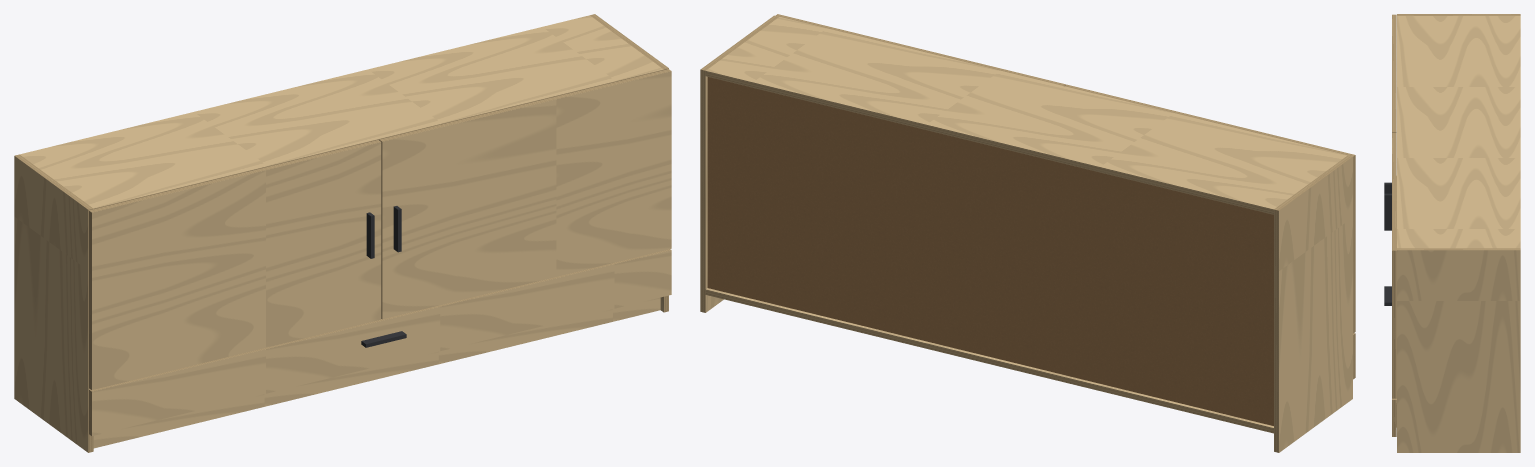
The model's file is SAB-SDB-long.glb.
The picture shows the model from 3 angles, left to right: view 1: azimuth 30°, elevation 25°; view 2: azimuth 150°, elevation 25°; view 3: azimuth 270°, elevation 25°; orthographic projection. The views are drawn at different scales.
Parts seen in each view (by area): view 1: door-r:sheet:eyJtIjoicGx5Iiwic2lkZSI6ImZhY2UiLCJzZWVkIjoxLCJ, door-l:sheet:eyJtIjoicGx5Iiwic2lkZSI6ImZhY2UiLCJzZWVkIjoyLCJ, top:sheet:eyJtIjoicGx5Iiwic2lkZSI6ImZhY2UiLCJzZWVkIjo2LCJ2ZW, d1-front:sheet:eyJtIjoicGx5Iiwic2lkZSI6ImZhY2UiLCJzZWVkIjo2L, side-l:sheet:eyJtIjoicGx5Iiwic2lkZSI6ImZhY2UiLCJzZWVkIjoxLCJ, plinth:sheet:eyJtIjoicGx5Iiwic2lkZSI6ImZhY2UiLCJzZWVkIjozLCJ, pull, d1-front:sheet:eyJtIjoicGx5Iiwic2lkZSI6ImVkZ2UtbG9uZyIsInNlZ, door-l:sheet:eyJtIjoicGx5Iiwic2lkZSI6ImVkZ2UtbG9uZyIsInNlZWQ, door-r:sheet:eyJtIjoicGx5Iiwic2lkZSI6ImVkZ2UtbG9uZyIsInNlZWQ, top:sheet:eyJtIjoicGx5Iiwic2lkZSI6ImVkZ2UtbG9uZyIsInNlZWQiOj; view 2: back:sheet:eyJtIjoibWRmIiwic2lkZSI6ImZhY2UiLCJzZWVkIjoyLCJ0a, top:sheet:eyJtIjoicGx5Iiwic2lkZSI6ImZhY2UiLCJzZWVkIjo2LCJ2ZW, side-l:sheet:eyJtIjoicGx5Iiwic2lkZSI6ImZhY2UiLCJzZWVkIjoxLCJ, bottom:sheet:eyJtIjoicGx5Iiwic2lkZSI6ImVkZ2UtbG9uZyIsInNlZWQ, top:sheet:eyJtIjoicGx5Iiwic2lkZSI6ImVkZ2UtbG9uZyIsInNlZWQiOj, side-r:sheet:eyJtIjoicGx5Iiwic2lkZSI6ImVkZ2UtbG9uZyIsInNlZWQ, bottom:sheet:eyJtIjoicGx5Iiwic2lkZSI6ImZhY2UiLCJzZWVkIjowLCJ, side-l:sheet:eyJtIjoicGx5Iiwic2lkZSI6ImVkZ2UtbG9uZyIsInNlZWQ, door-l:sheet:eyJtIjoicGx5Iiwic2lkZSI6ImVkZ2UtbG9uZyIsInNlZWQ, door-r:sheet:eyJtIjoicGx5Iiwic2lkZSI6ImVkZ2UtbG9uZyIsInNlZWQ, side-r:sheet:eyJtIjoicGx5Iiwic2lkZSI6ImZhY2UiLCJzZWVkIjozLCJ; view 3: top:sheet:eyJtIjoicGx5Iiwic2lkZSI6ImZhY2UiLCJzZWVkIjo2LCJ2ZW, side-r:sheet:eyJtIjoicGx5Iiwic2lkZSI6ImZhY2UiLCJzZWVkIjozLCJ, door-r:sheet:eyJtIjoicGx5Iiwic2lkZSI6ImVkZ2UtZW5kIiwic2VlZCI, door-l:sheet:eyJtIjoicGx5Iiwic2lkZSI6ImVkZ2UtbG9uZyIsInNlZWQ, door-r:sheet:eyJtIjoicGx5Iiwic2lkZSI6ImVkZ2UtbG9uZyIsInNlZWQ, pull, side-r:sheet:eyJtIjoicGx5Iiwic2lkZSI6ImVkZ2UtZW5kIiwic2VlZCI, side-l:sheet:eyJtIjoicGx5Iiwic2lkZSI6ImVkZ2UtZW5kIiwic2VlZCI, d1-box-front:sheet:eyJtIjoicGx5Iiwic2lkZSI6ImVkZ2UtbG9uZyIsI, d1-front:sheet:eyJtIjoicGx5Iiwic2lkZSI6ImVkZ2UtZW5kIiwic2VlZ.
Boxes of the visible parts, bbox=[...] form: door-r:sheet:eyJtIjoicGx5Iiwic2lkZSI6ImZhY2UiLCJzZWVkIjoxLCJ: bbox=[382, 71, 671, 319]; door-l:sheet:eyJtIjoicGx5Iiwic2lkZSI6ImZhY2UiLCJzZWVkIjoyLCJ: bbox=[92, 142, 381, 389]; top:sheet:eyJtIjoicGx5Iiwic2lkZSI6ImZhY2UiLCJzZWVkIjo2LCJ2ZW: bbox=[20, 15, 663, 208]; d1-front:sheet:eyJtIjoicGx5Iiwic2lkZSI6ImZhY2UiLCJzZWVkIjo2L: bbox=[92, 250, 671, 435]; side-l:sheet:eyJtIjoicGx5Iiwic2lkZSI6ImZhY2UiLCJzZWVkIjoxLCJ: bbox=[14, 156, 88, 452]; plinth:sheet:eyJtIjoicGx5Iiwic2lkZSI6ImZhY2UiLCJzZWVkIjozLCJ: bbox=[93, 297, 660, 448]; pull: bbox=[361, 206, 406, 347]; d1-front:sheet:eyJtIjoicGx5Iiwic2lkZSI6ImVkZ2UtbG9uZyIsInNlZ: bbox=[89, 249, 671, 391]; door-l:sheet:eyJtIjoicGx5Iiwic2lkZSI6ImVkZ2UtbG9uZyIsInNlZWQ: bbox=[89, 140, 380, 212]; door-r:sheet:eyJtIjoicGx5Iiwic2lkZSI6ImVkZ2UtbG9uZyIsInNlZWQ: bbox=[380, 69, 671, 141]; top:sheet:eyJtIjoicGx5Iiwic2lkZSI6ImVkZ2UtbG9uZyIsInNlZWQiOj: bbox=[94, 69, 663, 209]; back:sheet:eyJtIjoibWRmIiwic2lkZSI6ImZhY2UiLCJzZWVkIjoyLCJ0a: bbox=[707, 77, 1273, 425]; top:sheet:eyJtIjoicGx5Iiwic2lkZSI6ImZhY2UiLCJzZWVkIjo2LCJ2ZW: bbox=[706, 17, 1347, 209]; side-l:sheet:eyJtIjoicGx5Iiwic2lkZSI6ImZhY2UiLCJzZWVkIjoxLCJ: bbox=[1279, 157, 1352, 452]; bottom:sheet:eyJtIjoicGx5Iiwic2lkZSI6ImVkZ2UtbG9uZyIsInNlZWQ: bbox=[705, 289, 1273, 433]; top:sheet:eyJtIjoicGx5Iiwic2lkZSI6ImVkZ2UtbG9uZyIsInNlZWQiOj: bbox=[705, 71, 1273, 214]; side-r:sheet:eyJtIjoicGx5Iiwic2lkZSI6ImVkZ2UtbG9uZyIsInNlZWQ: bbox=[700, 69, 705, 312]; bottom:sheet:eyJtIjoicGx5Iiwic2lkZSI6ImZhY2UiLCJzZWVkIjowLCJ: bbox=[706, 288, 1273, 427]; side-l:sheet:eyJtIjoicGx5Iiwic2lkZSI6ImVkZ2UtbG9uZyIsInNlZWQ: bbox=[1274, 209, 1278, 452]; door-l:sheet:eyJtIjoicGx5Iiwic2lkZSI6ImVkZ2UtbG9uZyIsInNlZWQ: bbox=[1065, 84, 1354, 156]; door-r:sheet:eyJtIjoicGx5Iiwic2lkZSI6ImVkZ2UtbG9uZyIsInNlZWQ: bbox=[775, 14, 1065, 85]; side-r:sheet:eyJtIjoicGx5Iiwic2lkZSI6ImZhY2UiLCJzZWVkIjozLCJ: bbox=[705, 76, 723, 312]; top:sheet:eyJtIjoicGx5Iiwic2lkZSI6ImZhY2UiLCJzZWVkIjo2LCJ2ZW: bbox=[1397, 16, 1520, 248]; side-r:sheet:eyJtIjoicGx5Iiwic2lkZSI6ImZhY2UiLCJzZWVkIjozLCJ: bbox=[1397, 250, 1520, 452]; door-r:sheet:eyJtIjoicGx5Iiwic2lkZSI6ImVkZ2UtZW5kIiwic2VlZCI: bbox=[1392, 250, 1396, 398]; door-l:sheet:eyJtIjoicGx5Iiwic2lkZSI6ImVkZ2UtbG9uZyIsInNlZWQ: bbox=[1392, 14, 1396, 132]; door-r:sheet:eyJtIjoicGx5Iiwic2lkZSI6ImVkZ2UtbG9uZyIsInNlZWQ: bbox=[1392, 133, 1396, 250]; pull: bbox=[1384, 182, 1391, 305]; side-r:sheet:eyJtIjoicGx5Iiwic2lkZSI6ImVkZ2UtZW5kIiwic2VlZCI: bbox=[1397, 248, 1520, 250]; side-l:sheet:eyJtIjoicGx5Iiwic2lkZSI6ImVkZ2UtZW5kIiwic2VlZCI: bbox=[1397, 14, 1520, 15]; d1-box-front:sheet:eyJtIjoicGx5Iiwic2lkZSI6ImVkZ2UtbG9uZyIsI: bbox=[1396, 178, 1396, 402]; d1-front:sheet:eyJtIjoicGx5Iiwic2lkZSI6ImVkZ2UtZW5kIiwic2VlZ: bbox=[1392, 400, 1396, 436].
Size of the model in its own units: 2 by 0.8 by 0.4869.
Materials: 55 (54 with a texture image).
